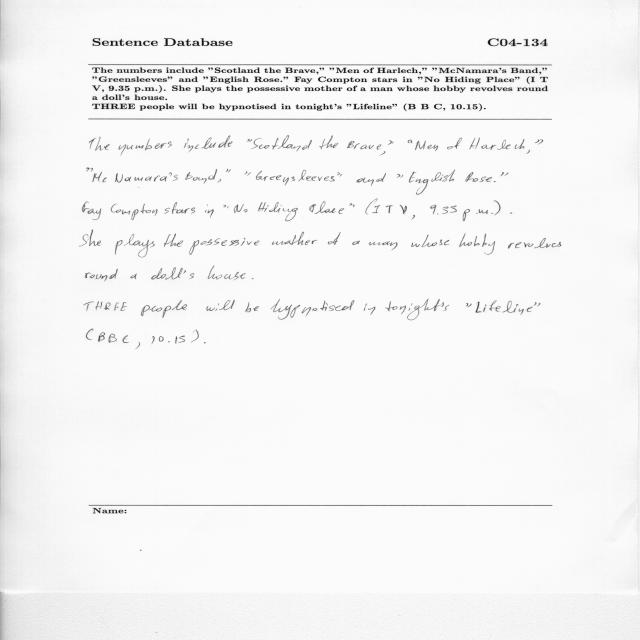word: (271, 299, 354, 320), (256, 170, 340, 186), (386, 299, 450, 320), (409, 169, 455, 195), (190, 238, 260, 255), (250, 136, 312, 152), (115, 234, 155, 257), (476, 300, 537, 315), (119, 139, 172, 156), (92, 172, 178, 182), (184, 136, 233, 153), (141, 300, 187, 318), (459, 233, 495, 255), (258, 202, 298, 221), (111, 204, 157, 220), (470, 138, 525, 150), (365, 199, 407, 214), (272, 232, 317, 245), (508, 238, 561, 249), (151, 267, 194, 280), (208, 266, 246, 280), (185, 169, 217, 184), (412, 235, 450, 247), (84, 302, 127, 312), (85, 269, 118, 281), (356, 173, 386, 186), (165, 202, 195, 214), (463, 209, 493, 221), (79, 230, 101, 246), (83, 202, 102, 220), (98, 332, 129, 343), (309, 202, 336, 214), (206, 300, 235, 311), (151, 336, 185, 345), (90, 137, 110, 151), (466, 172, 493, 182), (430, 205, 457, 215), (319, 136, 338, 150), (369, 241, 398, 250), (164, 234, 183, 247), (415, 141, 438, 151), (347, 141, 374, 149), (380, 141, 394, 156), (328, 232, 341, 245), (447, 138, 462, 149), (245, 303, 259, 313), (205, 204, 214, 218), (234, 204, 248, 213), (364, 304, 375, 315), (191, 330, 199, 343), (494, 201, 500, 216), (87, 329, 94, 340), (535, 140, 544, 145), (130, 274, 137, 280), (244, 171, 251, 176), (135, 342, 140, 349), (501, 172, 509, 176), (352, 241, 360, 245), (339, 208, 344, 214), (377, 144, 381, 150), (87, 168, 93, 172), (397, 174, 403, 178), (349, 204, 355, 208), (466, 303, 472, 307), (408, 140, 413, 144), (226, 169, 231, 173), (411, 215, 415, 220), (526, 150, 530, 154), (218, 179, 222, 183), (247, 139, 252, 142), (223, 205, 228, 208), (339, 174, 342, 177), (538, 303, 541, 306), (510, 212, 512, 214), (204, 342, 206, 344), (494, 181, 496, 182), (252, 278, 254, 279)
